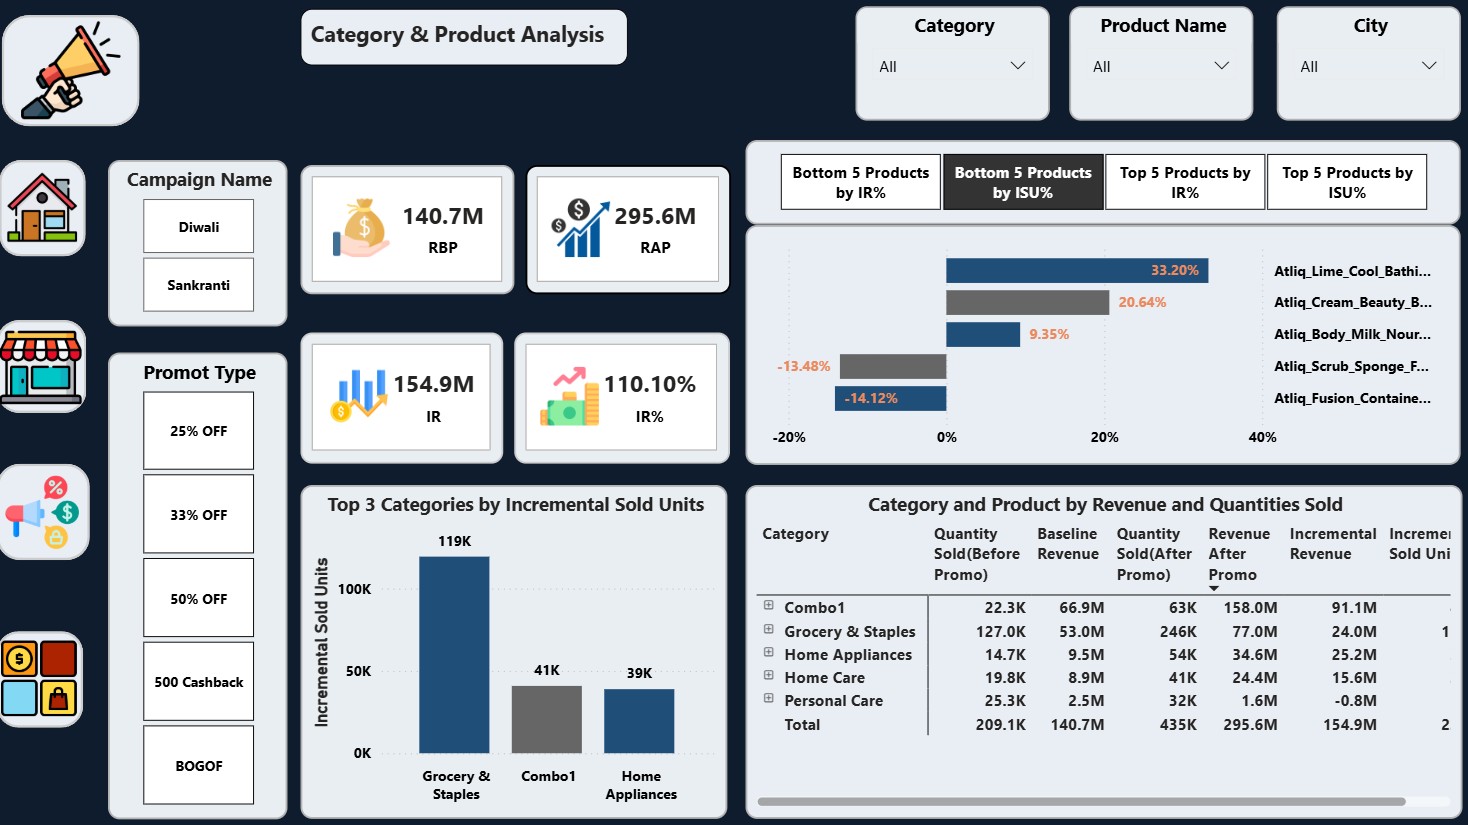

The dashboard page shown, as its layout file describes it:
{"tool":"powerbi","page":{"name":"Category & Product Analysis","canvas":[1280,720],"ordinal":3},"visuals":[{"type":"shape","box":[11.4,17.1,118.6,95.7],"z":0,"group":"g2"},{"type":"cardVisual","title":"Baseline Revenue ","fields":{"Data":["Project Measures.Revenue Before"]},"box":[268.6,145.7,184.3,111.4],"z":0},{"type":"cardVisual","fields":{"Data":["Project Measures.Revenue After Promo"]},"box":[462.9,145.7,177.1,111.4],"z":1000},{"type":"cardVisual","fields":{"Data":["Project Measures.Incremental Revenue"]},"box":[268.6,290,174.3,112.9],"z":2000},{"type":"cardVisual","fields":{"Data":["Project Measures.Incremental Revenue %"]},"box":[452.9,290,185.7,112.9],"z":3000},{"type":"columnChart","title":"Top 3 Categories by Incremental Sold Units","fields":{"Y":["Project Measures.Incremental Sold Units"],"Category":["dim_products.category"]},"box":[268.6,421.4,367.1,287.1],"z":4000},{"type":"pivotTable","title":"Category and Product  by Revenue and Quantities Sold ","fields":{"Rows":["dim_products.category","dim_products.product_name"],"Values":["Project Measures.Quantity Sold(Before Promo)","Project Measures.Revenue Before Promo","Project Measures.Quantity Sold(After Promo)","Project Measures.Revenue After Promo","Project Measures.Incremental Revenue","Project Measures.Incremental Sold Units"]},"box":[651.5,421,616.5,287.1],"z":5000},{"type":"barChart","fields":{"Category":["dim_products.product_name"],"Y":["ProductSwitch.Dynamic Value Product"]},"box":[651.5,196.9,615.3,206.1],"z":6000,"group":"g1"},{"type":"slicer","title":"Promot Type","fields":{"Values":["fact_events.promo_type"]},"box":[102.9,307.1,154.3,401.4],"z":6000},{"type":"slicer","fields":{"Values":["ProductSwitch.Metric"]},"box":[651.5,124.3,615.3,72.6],"z":7000,"group":"g1"},{"type":"slicer","title":"Campaign Name","fields":{"Values":["dim_campaign.campaign_name"]},"box":[102.9,141.4,154.3,142.9],"z":7000},{"type":"slicer","title":"City","fields":{"Values":["dim_stores.city"]},"box":[1108.6,10,158.6,98.6],"z":8000},{"type":"slicer","title":"Category","fields":{"Values":["dim_products.category"]},"box":[745.7,10,167.1,98.6],"z":9000},{"type":"slicer","title":"Product Name","fields":{"Values":["dim_products.product_name"]},"box":[930,10,158.6,98.6],"z":10000},{"type":"textbox","box":[268.6,11.4,281.4,48.6],"z":11000},{"type":"image","box":[20.4,17.1,101.6,95.7],"z":12000,"group":"g2"},{"type":"group","id":"g1","title":"Group 1","box":[651.5,124.3,615.3,278.7],"z":12000},{"type":"shape","box":[7.1,547.1,74.3,82.9],"z":13000},{"type":"shape","box":[7.1,402.9,80,82.9],"z":14000},{"type":"shape","box":[7.1,280,77.1,80],"z":15000},{"type":"image","box":[5.7,280,80,81.4],"z":16000},{"type":"image","box":[8.6,408.6,75.7,72.9],"z":17000},{"type":"image","box":[5.7,550,77.1,77.1],"z":18000},{"type":"shape","box":[10,141.4,74.3,82.9],"z":19000},{"type":"image","box":[11.4,145.7,70,72.9],"z":20000},{"type":"group","id":"g2","title":"Group 1","box":[11.4,17.1,118.6,95.7],"z":21000}]}

Visuals, with their boxes in screenshot pixels (x1, y1, x2, y2), scaled from the page's 1280x720 canvas onto the 1468x825 screenshot:
shape: (x1=13, y1=20, x2=149, y2=129)
"Baseline Revenue " cardVisual: (x1=308, y1=167, x2=519, y2=295)
cardVisual - Project Measures.Revenue After Promo: (x1=531, y1=167, x2=734, y2=295)
cardVisual - Project Measures.Incremental Revenue: (x1=308, y1=332, x2=508, y2=462)
cardVisual - Project Measures.Incremental Revenue %: (x1=519, y1=332, x2=732, y2=462)
"Top 3 Categories by Incremental Sold Units" columnChart: (x1=308, y1=483, x2=729, y2=812)
"Category and Product  by Revenue and Quantities Sold " pivotTable: (x1=747, y1=482, x2=1454, y2=811)
barChart - dim_products.product_name x ProductSwitch.Dynamic Value Product: (x1=747, y1=226, x2=1453, y2=462)
"Promot Type" slicer: (x1=118, y1=352, x2=295, y2=812)
slicer - ProductSwitch.Metric: (x1=747, y1=142, x2=1453, y2=226)
"Campaign Name" slicer: (x1=118, y1=162, x2=295, y2=326)
"City" slicer: (x1=1271, y1=11, x2=1453, y2=124)
"Category" slicer: (x1=855, y1=11, x2=1047, y2=124)
"Product Name" slicer: (x1=1067, y1=11, x2=1248, y2=124)
textbox: (x1=308, y1=13, x2=631, y2=69)
image: (x1=23, y1=20, x2=140, y2=129)
"Group 1" group: (x1=747, y1=142, x2=1453, y2=462)
shape: (x1=8, y1=627, x2=93, y2=722)
shape: (x1=8, y1=462, x2=100, y2=557)
shape: (x1=8, y1=321, x2=97, y2=412)
image: (x1=7, y1=321, x2=98, y2=414)
image: (x1=10, y1=468, x2=97, y2=552)
image: (x1=7, y1=630, x2=95, y2=719)
shape: (x1=11, y1=162, x2=97, y2=257)
image: (x1=13, y1=167, x2=93, y2=250)
"Group 1" group: (x1=13, y1=20, x2=149, y2=129)
